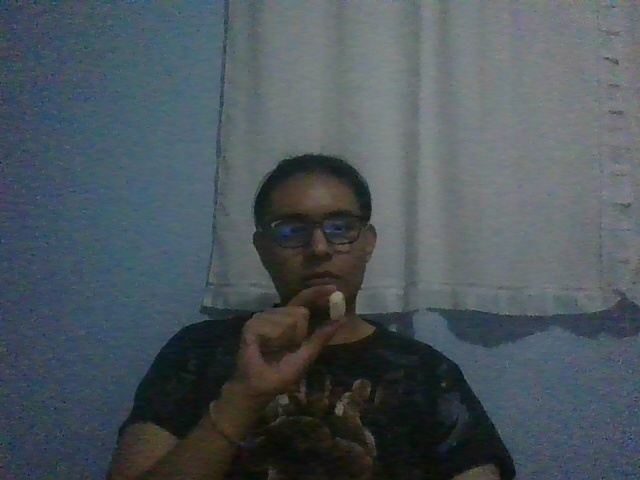goma: (328, 290, 346, 321)
